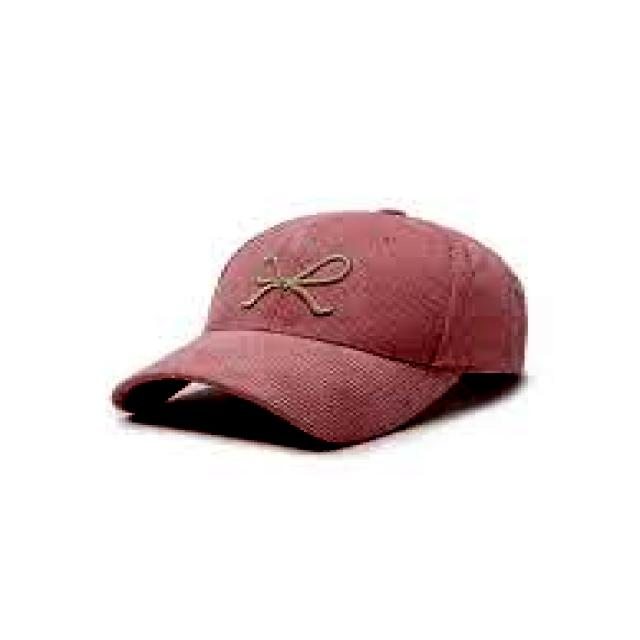hat: (113, 211, 524, 444)
